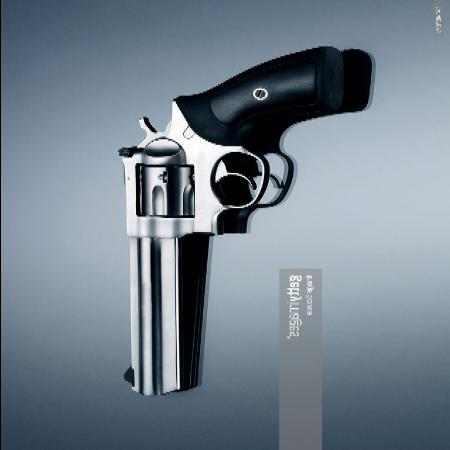Pistol: (115, 43, 344, 397)
